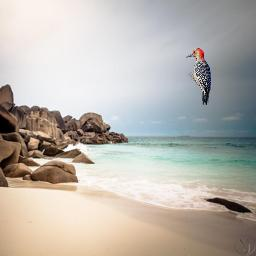Woodpecker: (186, 48, 211, 105)
